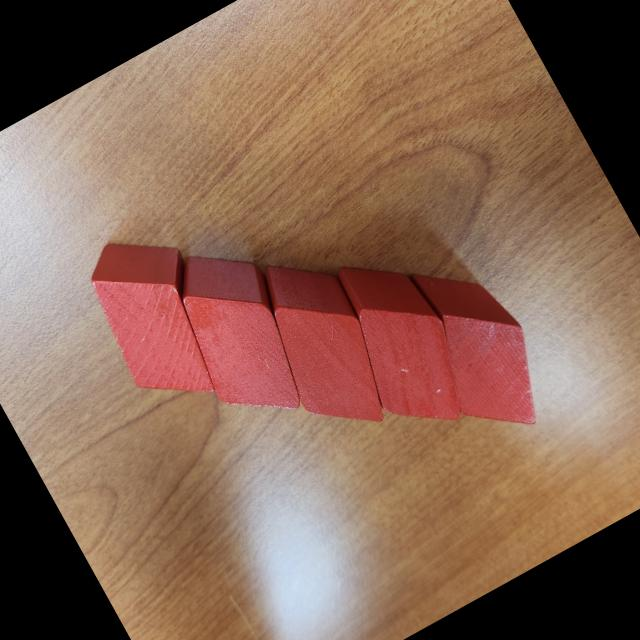red: (150, 228, 330, 441), (389, 239, 567, 454), (312, 235, 488, 450), (236, 240, 410, 452), (70, 214, 247, 421)
